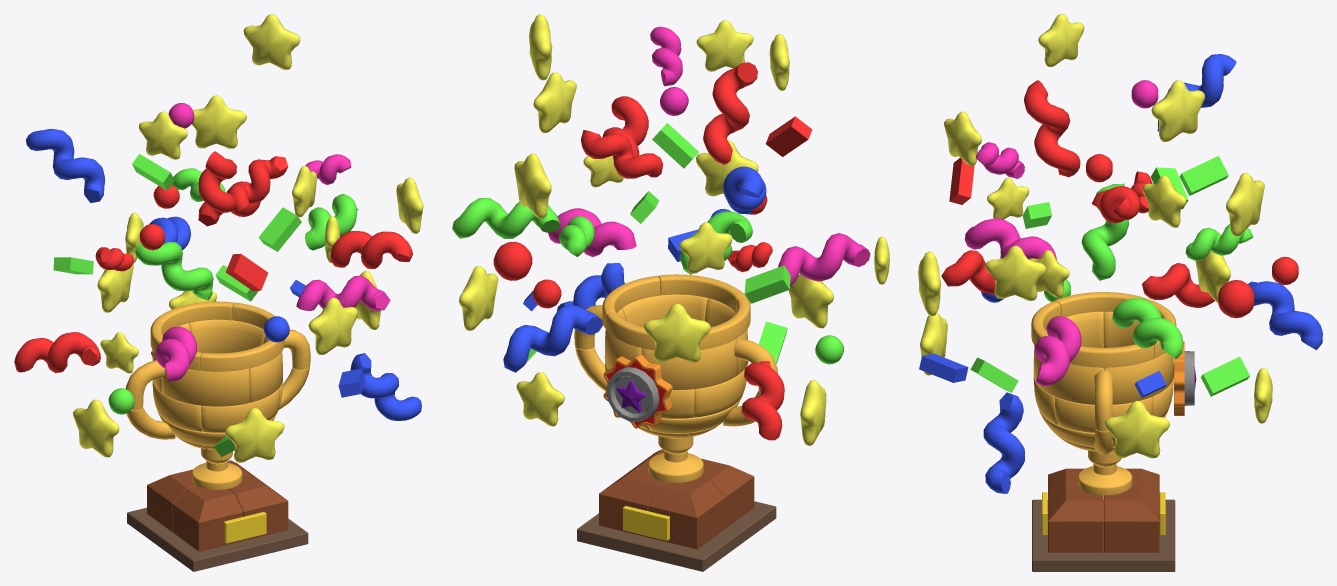
Rendered from Level_P_29.fbx.
The picture shows the model from 3 angles, left to right: view 1: azimuth 30°, elevation 25°; view 2: azimuth 150°, elevation 25°; view 3: azimuth 270°, elevation 25°; orthographic projection. The views are drawn at different scales.
Parts seen in each view (by area): view 1: Level_1_Cup_1, Level_3_Cup_8, Level_3_Cup_2.007, pCylinder19.021, pCylinder19.002, pCylinder19.010, pCylinder19.014, Level_3_Cup_2.001, Cylinder.079, pCylinder19.024, pCylinder19.029, Level_3_Cup_6 (+42 smaller); view 2: Level_1_Cup_1, Level_3_Cup_7, pCylinder19.025, pCylinder19.008, Level_3_Cup_2.003, pCylinder19.017, pCylinder19.026, Cylinder.058, Level_3_Cup_5, pCylinder19.002, pCylinder19.011, Level_3_Cup_8 (+45 smaller); view 3: Level_1_Cup_1, Level_3_Cup_6, Level_3_Cup_5, pCylinder19.008, pCylinder19.024, Cylinder.083, pCylinder19.017, pCylinder19.025, pCylinder19.029, Cylinder.084, Cylinder.086, pCylinder19.026 (+44 smaller).
Boxes of the visible parts, x1,y1,x2,y2 form: Level_1_Cup_1: (127,507,308,571); Level_3_Cup_8: (173,486,243,551); Level_3_Cup_2.007: (161,368,249,406); pCylinder19.021: (26,129,104,202); pCylinder19.002: (14,332,100,373); pCylinder19.010: (330,231,412,268); pCylinder19.014: (135,241,213,300); Level_3_Cup_2.001: (189,319,265,353); Cylinder.079: (225,407,284,462); pCylinder19.024: (350,353,421,420); pCylinder19.029: (296,275,390,310); Level_3_Cup_6: (229,473,288,540); Level_1_Cup_1: (577,501,776,571); Level_3_Cup_7: (648,477,725,549); pCylinder19.025: (503,305,602,372); pCylinder19.008: (703,62,757,164); Level_3_Cup_2.003: (641,338,738,390); pCylinder19.017: (452,198,560,238); pCylinder19.026: (778,233,870,286); Cylinder.058: (644,303,710,362); Level_3_Cup_5: (599,463,662,537); pCylinder19.002: (741,361,784,440); pCylinder19.011: (581,130,662,178); Level_3_Cup_8: (699,458,754,528); Level_1_Cup_1: (1032,499,1175,571); Level_3_Cup_6: (1048,485,1103,552); Level_3_Cup_5: (1104,485,1159,552); pCylinder19.008: (1024,80,1080,177); pCylinder19.024: (983,392,1024,493); Cylinder.083: (1104,400,1169,458); pCylinder19.017: (1112,298,1183,358); pCylinder19.025: (1248,281,1322,350); pCylinder19.029: (1034,316,1081,385); Cylinder.084: (985,245,1046,300); Cylinder.086: (1151,80,1204,141); pCylinder19.026: (964,218,1056,259).
Size of the model in its own units: 13.34 by 18.49 by 13.34.
